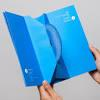paper: (3, 5, 97, 88)
